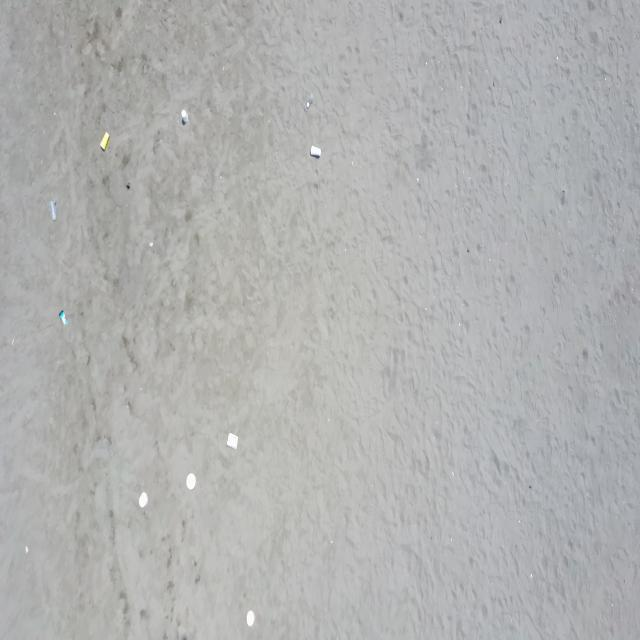take-away-containers: (226, 431, 239, 451), (246, 607, 256, 629), (138, 489, 149, 508), (186, 472, 196, 491)
takeaway-cup: (100, 130, 110, 152), (304, 93, 313, 112), (310, 144, 322, 158), (48, 200, 56, 221), (59, 310, 68, 326), (181, 109, 189, 123)
